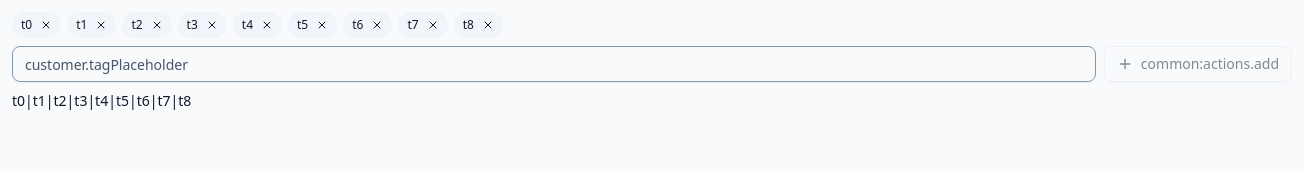
Test: TagInput › clears leftover text when a pasted list fills the limit
The image size is (1304, 172).
Type "x,y" into the dropdown at [554, 64], box [12,46,1096,82]
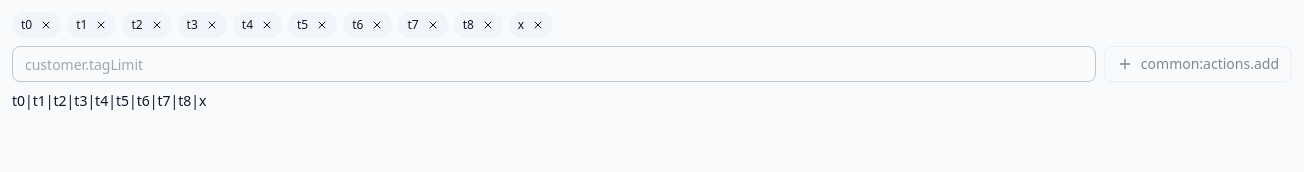
Now the text with test id "tags" reads "t0|t1|t2|t3|t4|t5|t6|t7|t8|x", box [12,91,206,110]
